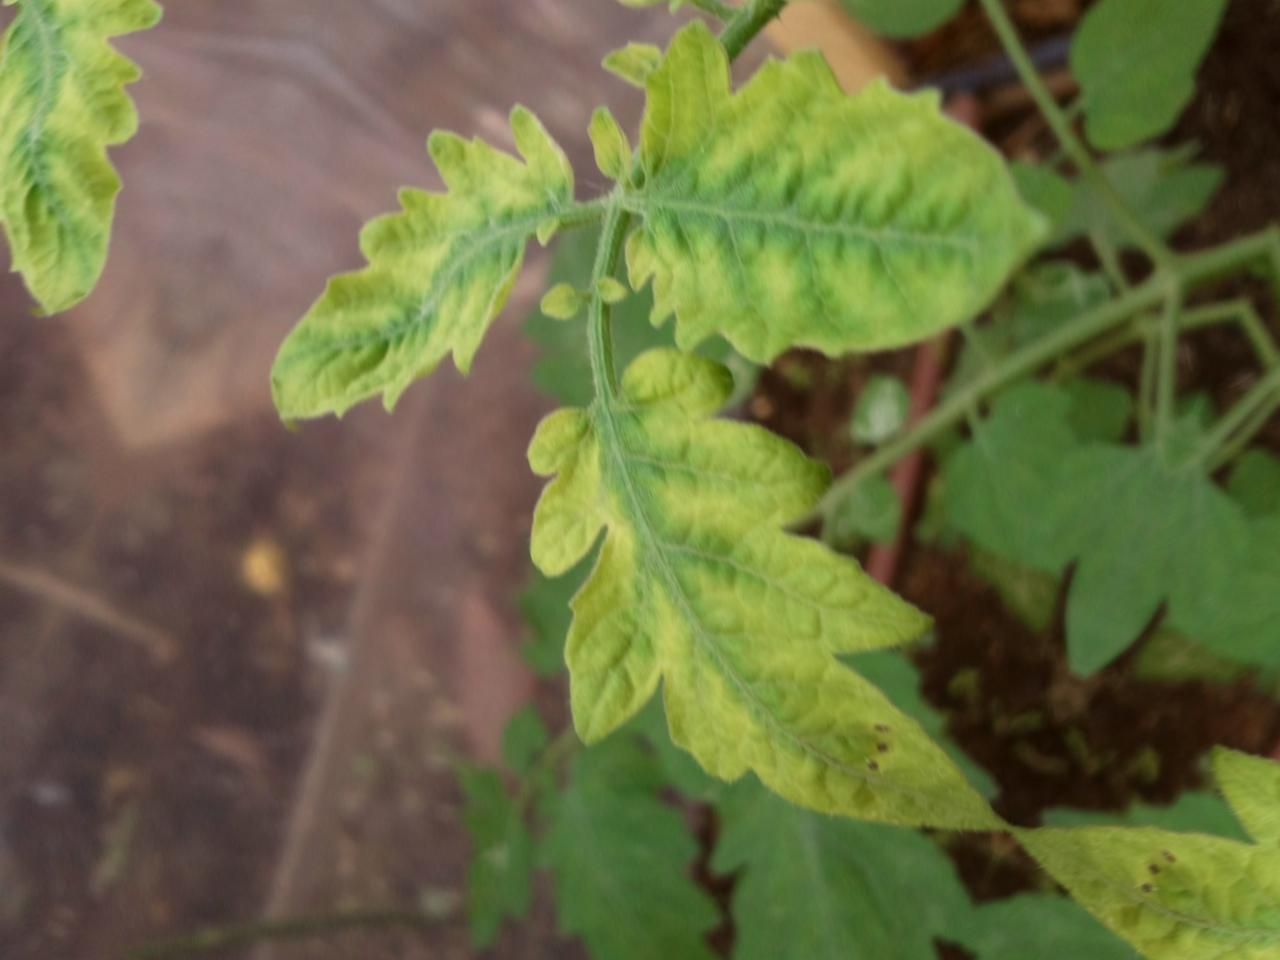Tomato leaf yellow virus: (427, 305, 1134, 895), (580, 0, 1144, 471), (212, 56, 616, 554), (512, 0, 716, 36)
